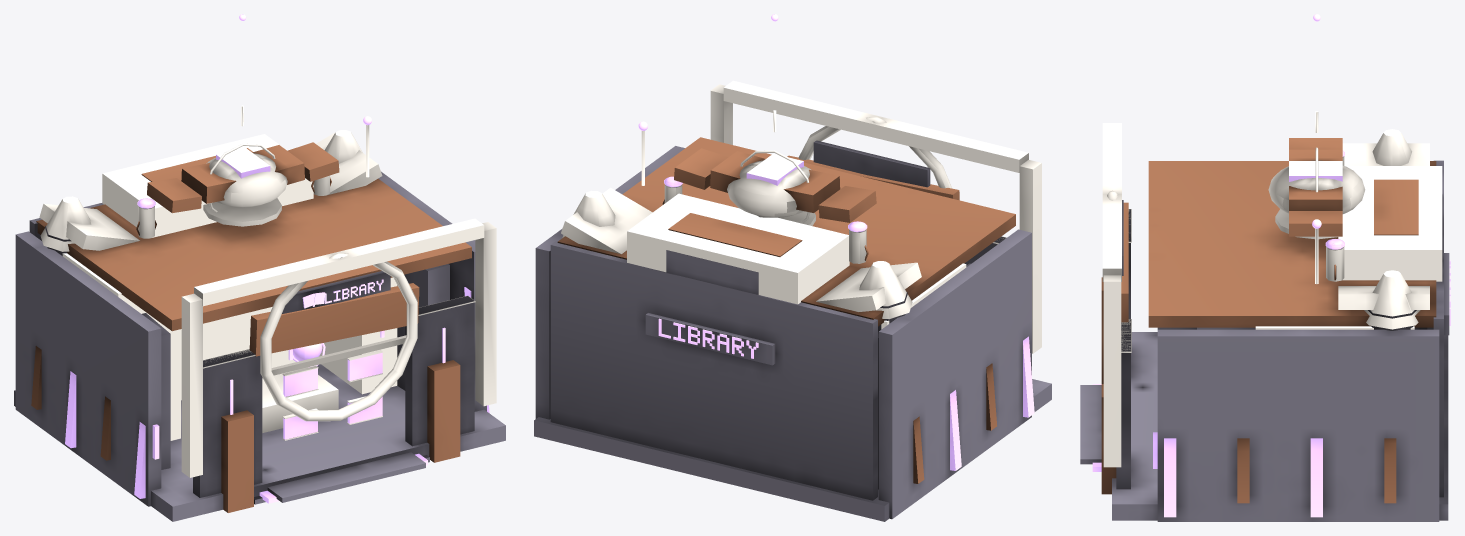
Rendered from library.glb.
3 renders of one model, left to right at view 1: azimuth 30°, elevation 25°; view 2: azimuth 150°, elevation 25°; view 3: azimuth 270°, elevation 25°, orthographic. The views are drawn at different scales.
Visible parts, largest first — view 1: library:near:surface:0, library:near:surface:3, library:near:surface:2, library:far:surface:0, library:near:surface:1, library:city-identity:great-book; view 2: library:near:surface:0, library:near:surface:3, library:near:surface:2, library:far:surface:0, library:near:surface:1, library:city-identity:great-book; view 3: library:near:surface:0, library:near:surface:3, library:near:surface:2, library:far:surface:0, library:near:surface:1, library:city-identity:great-book.
Boxes of the visible parts, left/top/right/bottom form: library:near:surface:0: left=14, top=171, right=505, bottom=521; library:near:surface:3: left=31, top=142, right=471, bottom=512; library:near:surface:2: left=39, top=105, right=496, bottom=477; library:far:surface:0: left=62, top=134, right=397, bottom=440; library:near:surface:1: left=65, top=14, right=489, bottom=503; library:city-identity:great-book: left=249, top=283, right=419, bottom=356; library:near:surface:0: left=534, top=140, right=1051, bottom=521; library:near:surface:3: left=557, top=137, right=1015, bottom=483; library:near:surface:2: left=561, top=80, right=1041, bottom=353; library:far:surface:0: left=627, top=193, right=966, bottom=329; library:near:surface:1: left=638, top=14, right=1034, bottom=470; library:city-identity:great-book: left=787, top=155, right=959, bottom=200; library:near:surface:0: left=1080, top=160, right=1449, bottom=521; library:near:surface:3: left=1101, top=138, right=1436, bottom=503; library:near:surface:2: left=1102, top=111, right=1429, bottom=467; library:far:surface:0: left=1255, top=166, right=1442, bottom=329; library:near:surface:1: left=1092, top=14, right=1450, bottom=517; library:city-identity:great-book: left=1121, top=202, right=1128, bottom=322.
Size of the model in its own units: 16.79 by 18.18 by 14.53.
4 materials, 4 textured.
